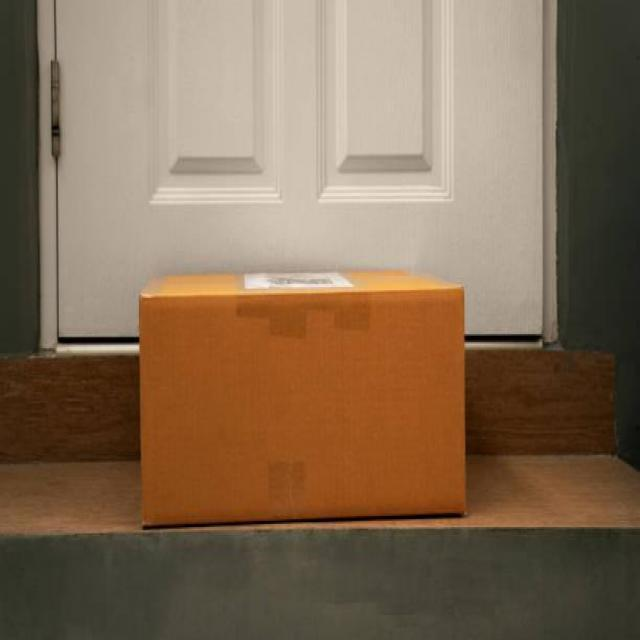box: (129, 255, 476, 526)
